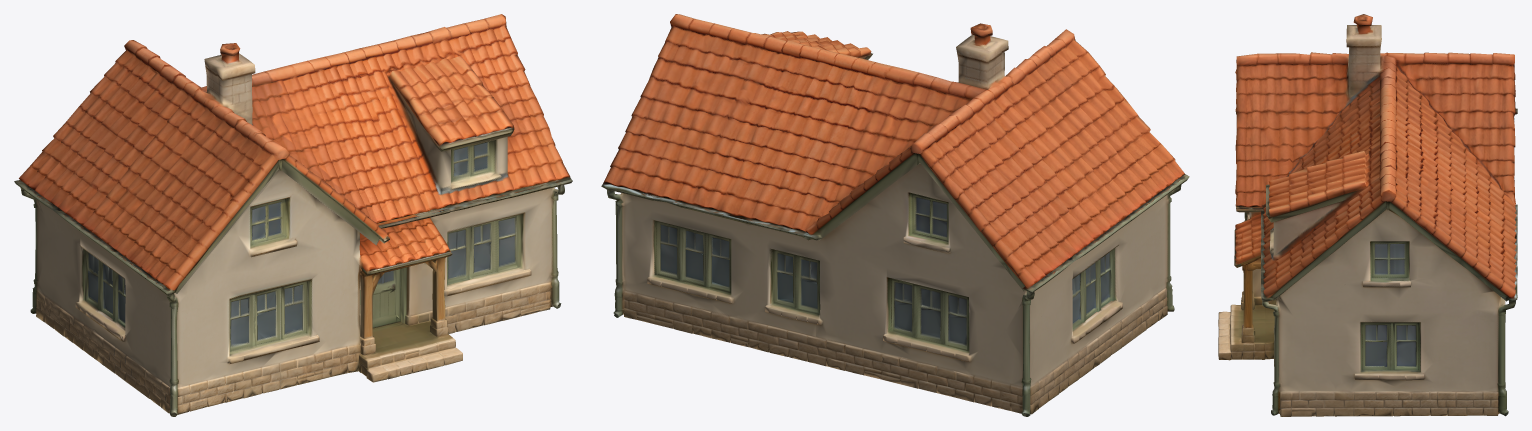
Rendered from house.glb.
3 renders of one model, left to right at view 1: azimuth 30°, elevation 25°; view 2: azimuth 150°, elevation 25°; view 3: azimuth 270°, elevation 25°, orthographic. The views are drawn at different scales.
Visible parts, largest first — view 1: tripo_node_606b7928; view 2: tripo_node_606b7928; view 3: tripo_node_606b7928.
Part boxes in pixels (box(x1,y1,x2,y2)): tripo_node_606b7928: box(14, 14, 572, 416); tripo_node_606b7928: box(601, 14, 1189, 416); tripo_node_606b7928: box(1218, 14, 1517, 416).
Size of the model in its own units: 8 by 5.34 by 5.32.
1 material, 1 textured.
